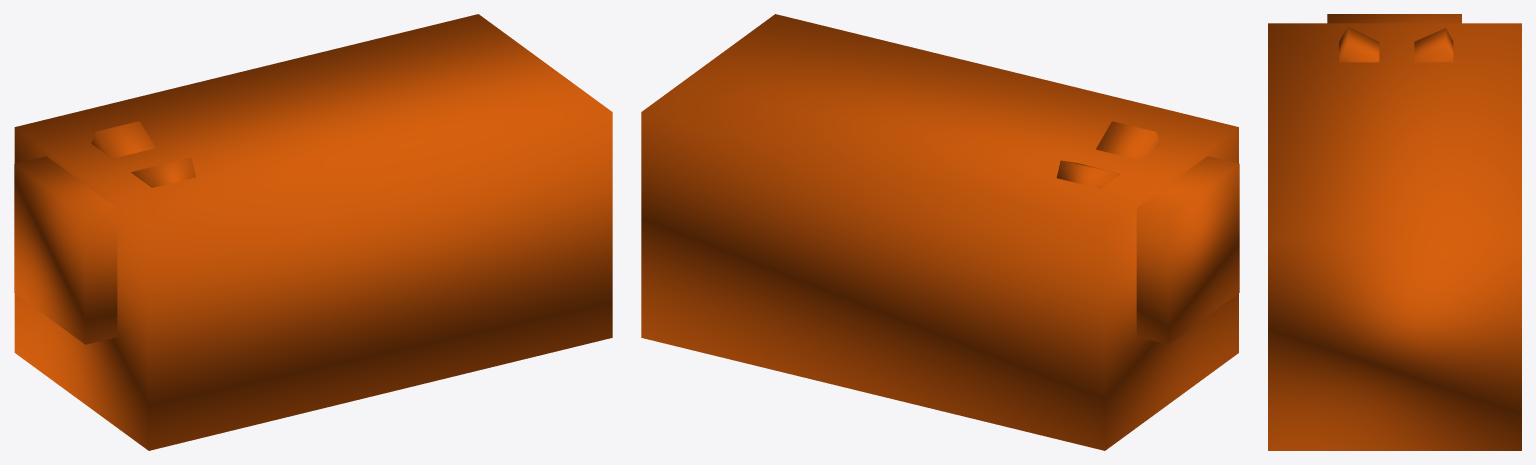
Rendered from pruebacuy.gltf.
3 renders of one model, left to right at view 1: azimuth 30°, elevation 25°; view 2: azimuth 150°, elevation 25°; view 3: azimuth 270°, elevation 25°, orthographic. The views are drawn at different scales.
Parts seen in each view (by area): view 1: Cube, Cube.001, Cube.003, Cube.002; view 2: Cube, Cube.001, Cube.002, Cube.003; view 3: Cube, Cube.001, Cube.002, Cube.003.
Boxes of the visible parts, x1,y1,x2,y2 form: Cube: (14,14,612,450); Cube.001: (14,156,117,344); Cube.003: (91,121,155,158); Cube.002: (131,157,195,187); Cube: (641,14,1238,450); Cube.001: (1136,156,1239,344); Cube.002: (1095,121,1160,160); Cube.003: (1056,160,1120,188); Cube: (1268,23,1521,450); Cube.001: (1327,14,1461,23); Cube.002: (1339,26,1379,62); Cube.003: (1414,28,1453,62).
Bounding box in the file's own units: 17.98 × 8.53 × 8.42.
